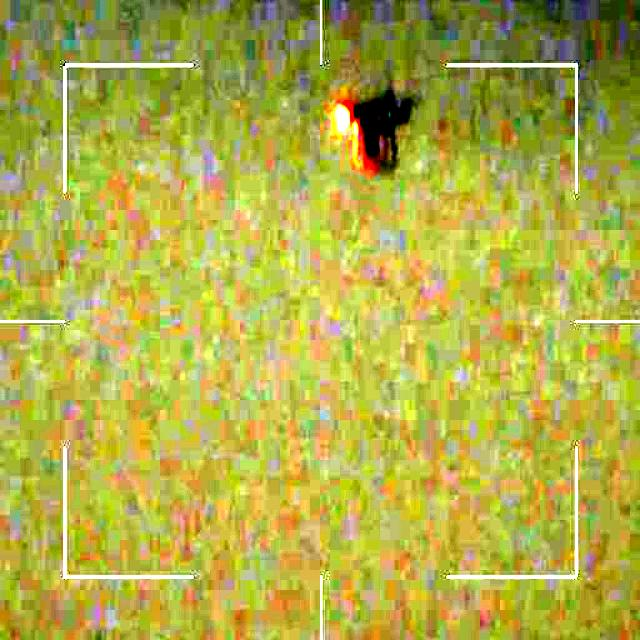bird: (324, 84, 414, 179)
